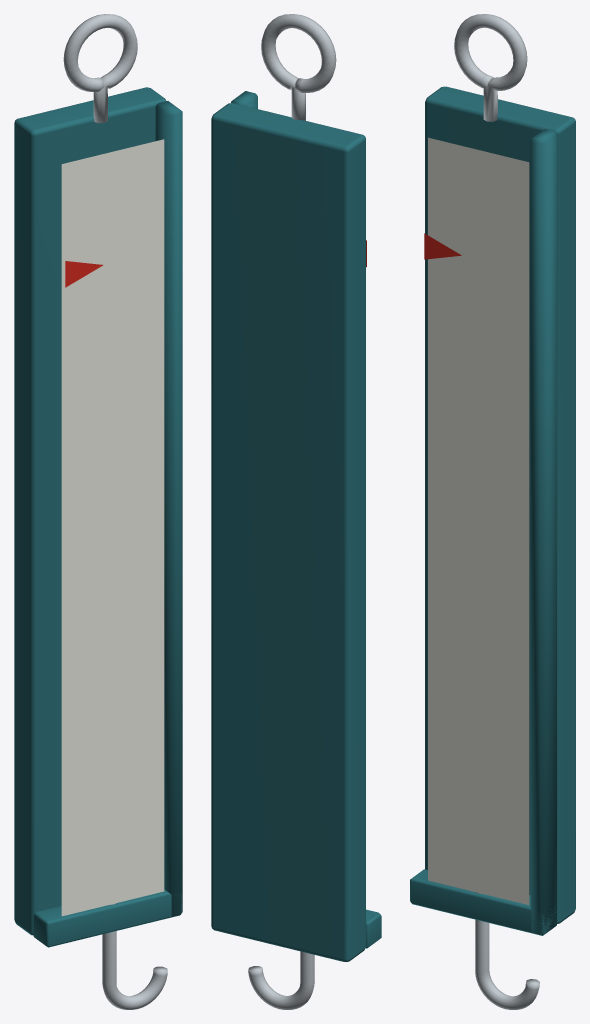
The model's file is VLAB_force_meter.fbx.
3 renders of one model, left to right at view 1: azimuth 30°, elevation 25°; view 2: azimuth 150°, elevation 25°; view 3: azimuth 330°, elevation 25°, orthographic. The views are drawn at different scales.
Visible parts, largest first — view 1: VLAB_force_meter_Scale_VIS, VLAB_force_meter_Body_VIS, VLAB_force_meter_HookTop_VIS, VLAB_force_meter_HookBottom_VIS, VLAB_force_meter_Indicator_VIS; view 2: VLAB_force_meter_Body_VIS, VLAB_force_meter_HookTop_VIS, VLAB_force_meter_HookBottom_VIS; view 3: VLAB_force_meter_Scale_VIS, VLAB_force_meter_Body_VIS, VLAB_force_meter_HookTop_VIS, VLAB_force_meter_HookBottom_VIS, VLAB_force_meter_Indicator_VIS.
Boxes of the visible parts, x1=… form: VLAB_force_meter_Scale_VIS: x1=61, y1=139, x2=164, y2=916; VLAB_force_meter_Body_VIS: x1=14, y1=87, x2=182, y2=947; VLAB_force_meter_HookTop_VIS: x1=63, y1=14, x2=137, y2=123; VLAB_force_meter_HookBottom_VIS: x1=102, y1=903, x2=167, y2=1009; VLAB_force_meter_Indicator_VIS: x1=65, y1=261, x2=103, y2=287; VLAB_force_meter_Body_VIS: x1=211, y1=91, x2=381, y2=961; VLAB_force_meter_HookTop_VIS: x1=261, y1=14, x2=336, y2=120; VLAB_force_meter_HookBottom_VIS: x1=248, y1=951, x2=314, y2=1009; VLAB_force_meter_Scale_VIS: x1=428, y1=137, x2=529, y2=904; VLAB_force_meter_Body_VIS: x1=410, y1=86, x2=575, y2=935; VLAB_force_meter_HookTop_VIS: x1=454, y1=14, x2=527, y2=121; VLAB_force_meter_HookBottom_VIS: x1=475, y1=892, x2=539, y2=1009; VLAB_force_meter_Indicator_VIS: x1=424, y1=233, x2=461, y2=259.
Bounding box in the file's own units: 0.032 × 0.222 × 0.0145.
